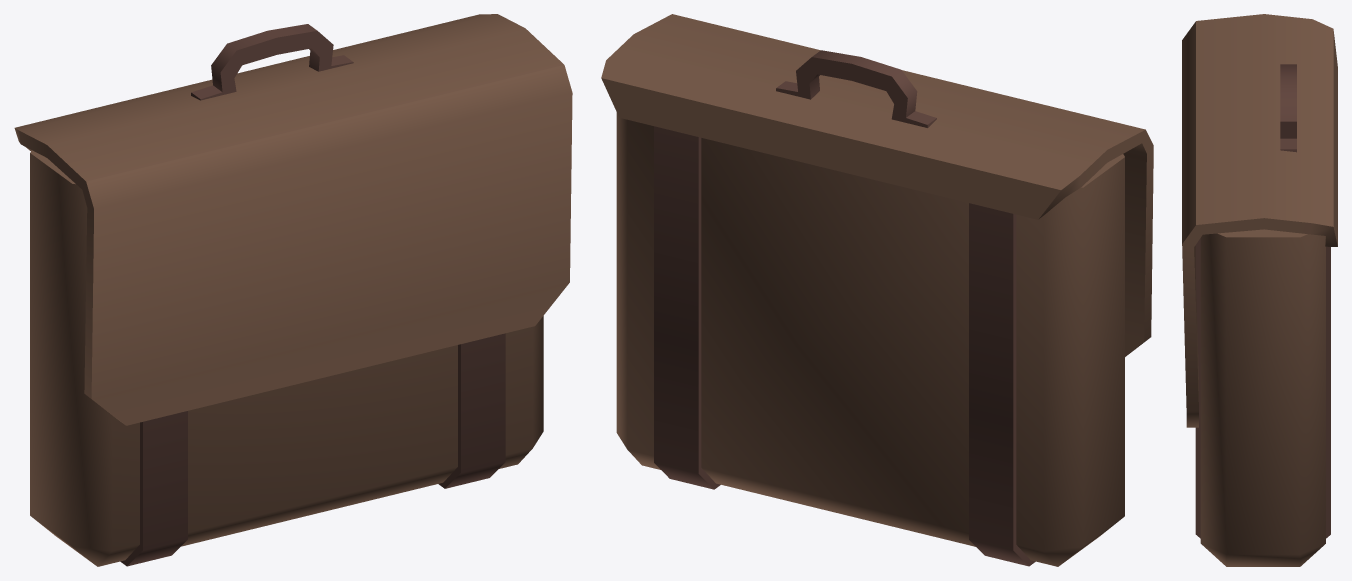
The model's file is WorkBag_Medium.fbx.
3 views of the same model, side by side, from view 1: azimuth 30°, elevation 25°; view 2: azimuth 150°, elevation 25°; view 3: azimuth 270°, elevation 25° (orthographic). The views are drawn at different scales.
Visible parts, largest first — view 1: WorkBag_Medium; view 2: WorkBag_Medium; view 3: WorkBag_Medium.
Boxes of the visible parts, bbox=[...] form: WorkBag_Medium: bbox=[14, 14, 572, 566]; WorkBag_Medium: bbox=[601, 14, 1153, 566]; WorkBag_Medium: bbox=[1182, 14, 1337, 566].
Size of the model in its own units: 118 by 108 by 37.91.
